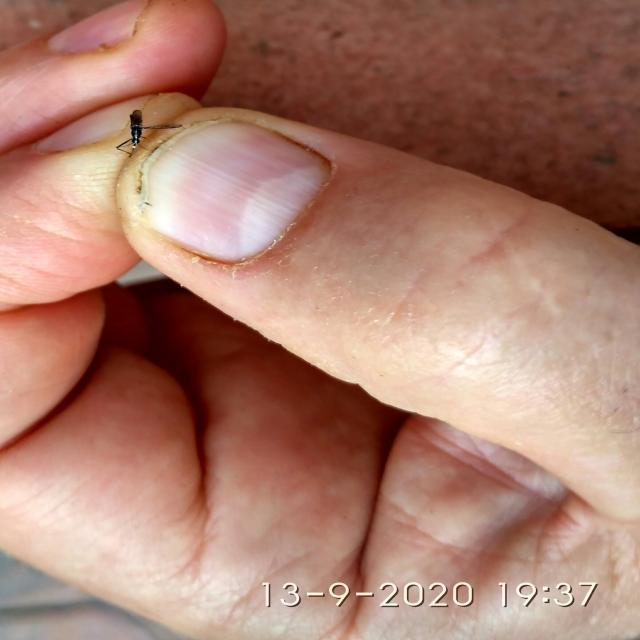albopictus: (113, 106, 189, 160)
